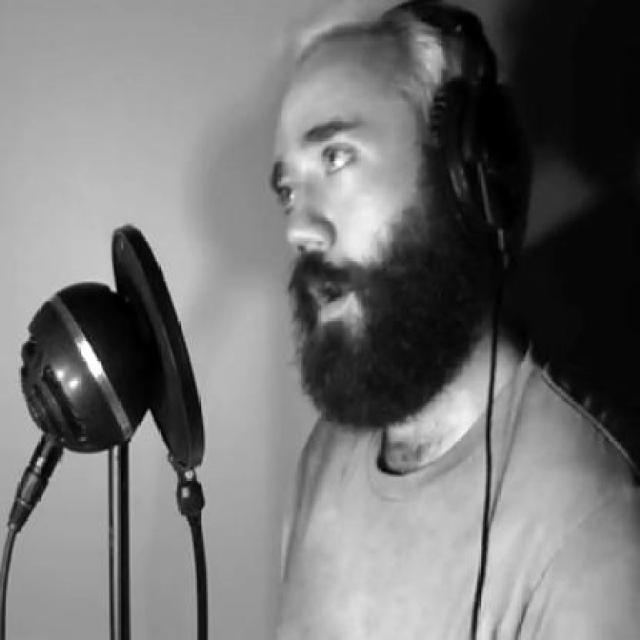earphone: (381, 0, 538, 246)
